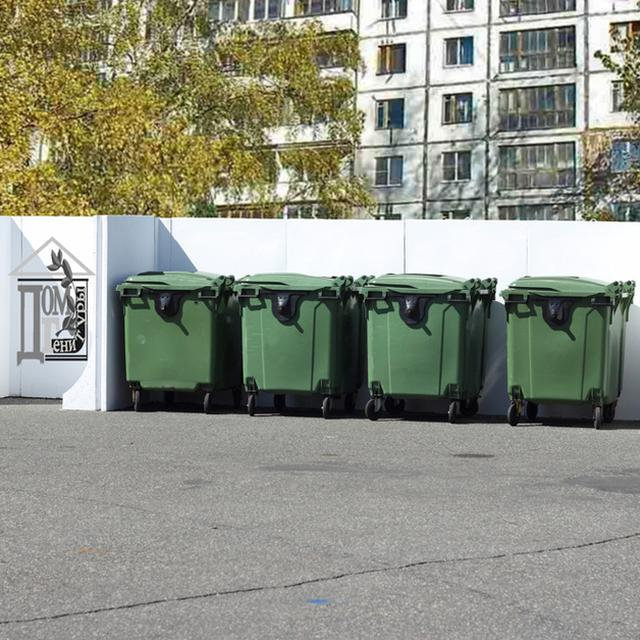Trash_Can_Closed: (500, 276, 624, 406), (232, 271, 359, 397), (360, 273, 487, 399), (115, 269, 234, 390)
